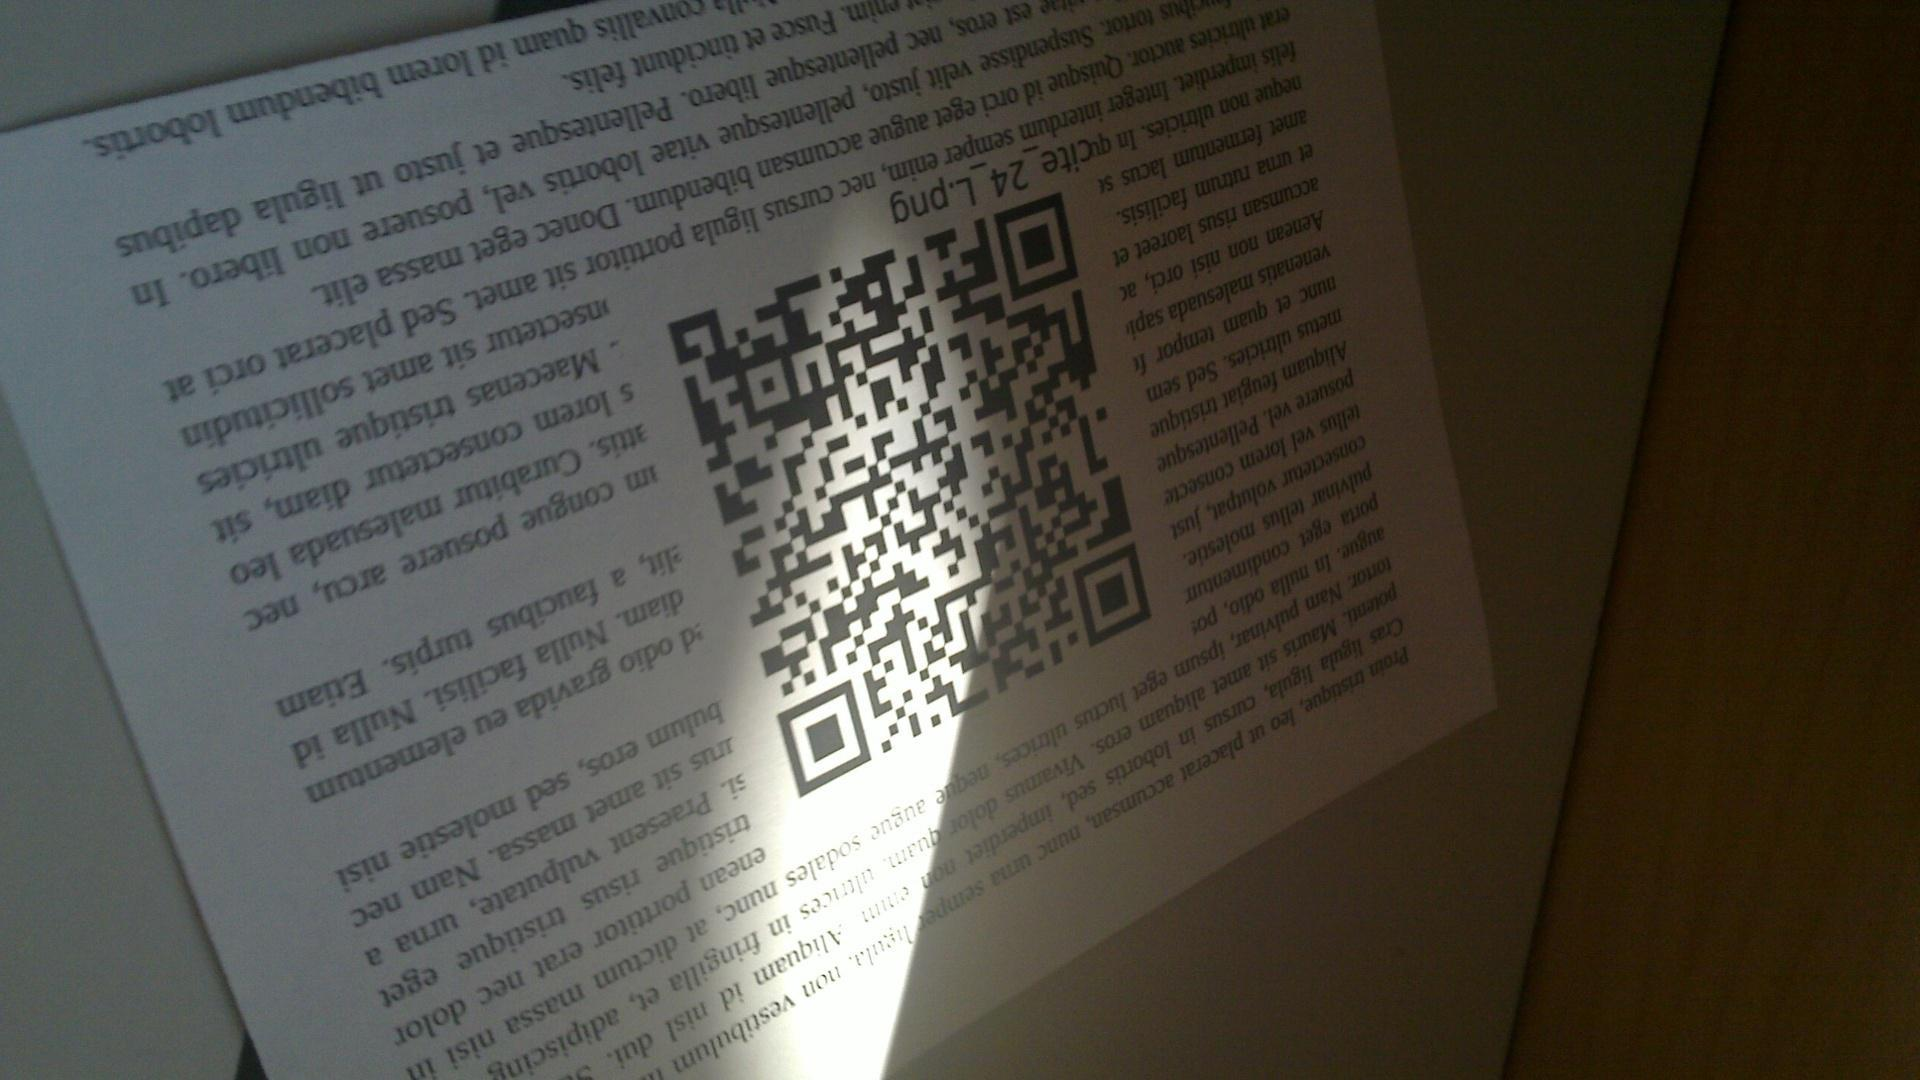Finder pattern: (767, 683, 876, 793), (1068, 539, 1158, 647), (986, 196, 1083, 295)
